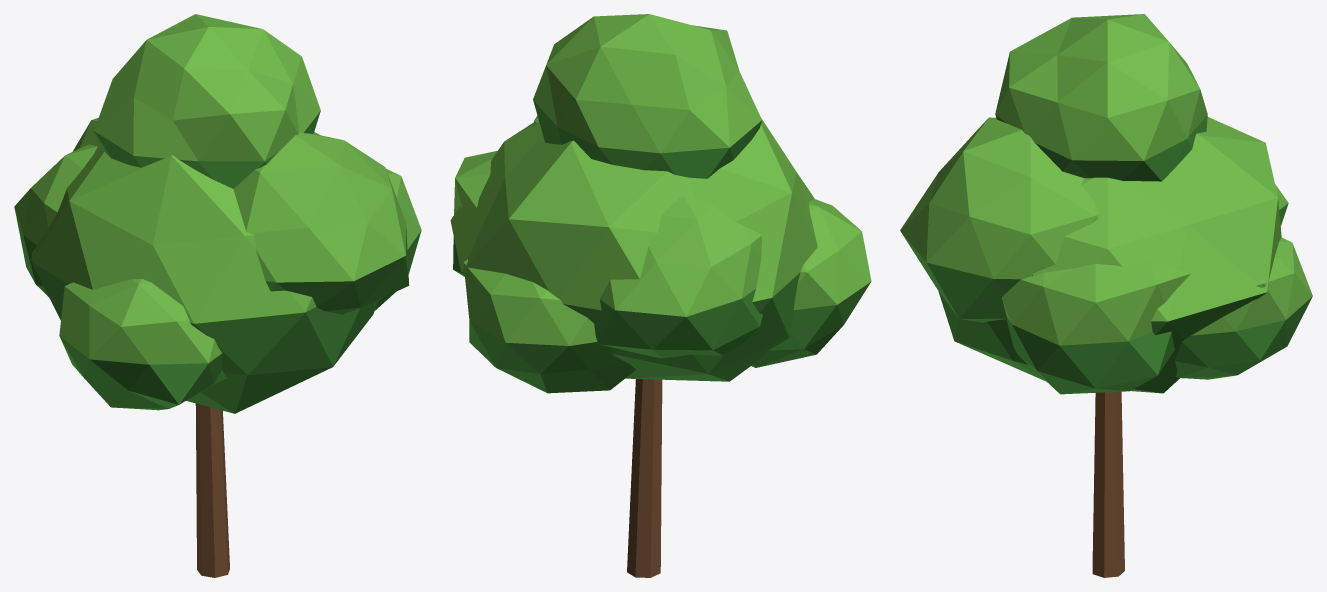
The model's file is veg_tree_a.glb.
The picture shows the model from 3 angles, left to right: view 1: azimuth 30°, elevation 25°; view 2: azimuth 150°, elevation 25°; view 3: azimuth 270°, elevation 25°; orthographic projection. The views are drawn at different scales.
Parts seen in each view (by area): view 1: veg_tree_a; view 2: veg_tree_a; view 3: veg_tree_a.
Part boxes in pixels (x1,y1,x2,y2): veg_tree_a: (14,14,421,577); veg_tree_a: (450,14,871,577); veg_tree_a: (900,14,1312,577).
Bounding box in the file's own units: 5.34 × 7.79 × 5.31.
